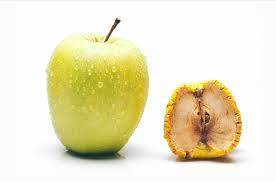apple: (50, 35, 144, 156)
damaged_apple: (162, 79, 244, 162)
